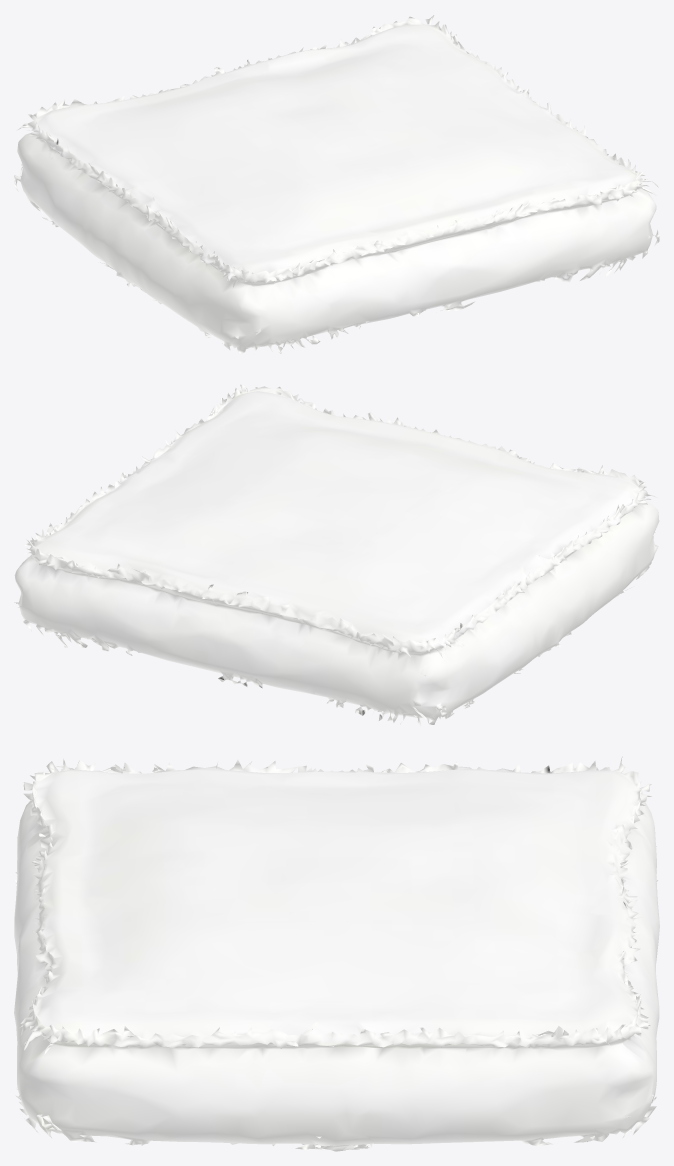
File: White_square_rug.glb
3 views of the same model, one above another, from view 1: azimuth 30°, elevation 25°; view 2: azimuth 150°, elevation 25°; view 3: azimuth 270°, elevation 25° (orthographic). The views are drawn at different scales.
Visible parts, largest first — view 1: Mesh_0; view 2: Mesh_0; view 3: Mesh_0.
Part boxes in pixels (x1,y1,x2,y2): Mesh_0: (14,15,659,354); Mesh_0: (14,384,659,725); Mesh_0: (14,756,659,1151).
Size of the model in its own units: 1.9 by 0.4879 by 1.76.
1 material, 1 textured.
